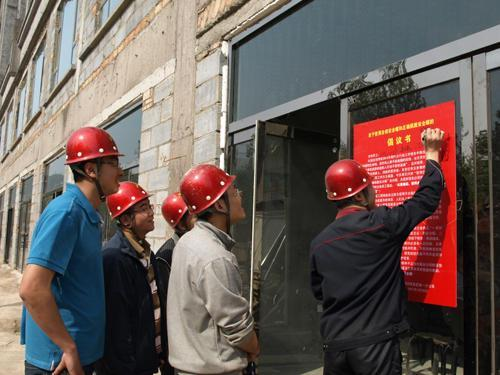helmet: (175, 162, 240, 212), (314, 158, 373, 203), (62, 127, 124, 167)
no-vest: (308, 208, 437, 351), (167, 229, 260, 375), (32, 192, 109, 363)
person: (304, 155, 445, 375), (22, 118, 124, 375), (160, 161, 266, 369)
